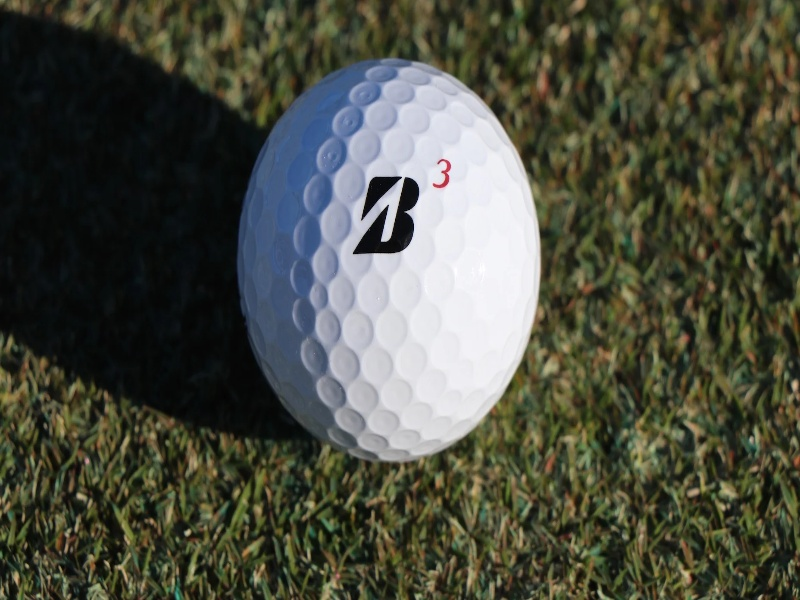golf_ball: (236, 60, 541, 465)
